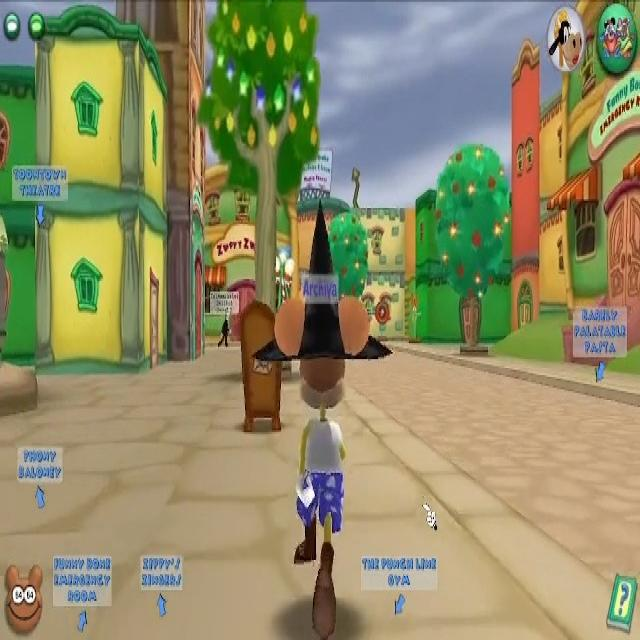telemarketer: (209, 291, 239, 350)
